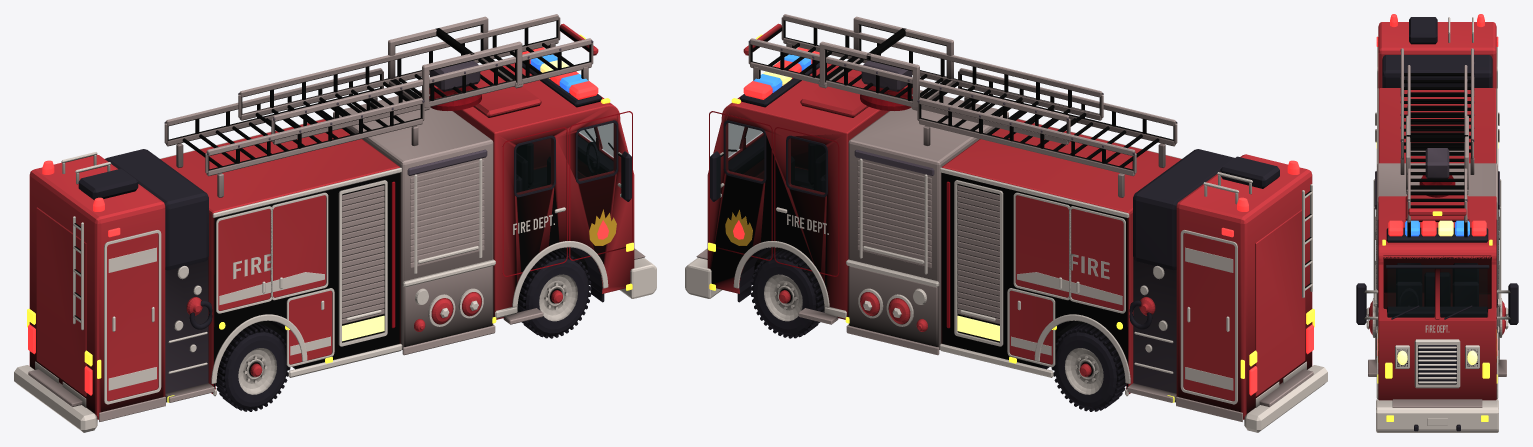
3 views of the same model, side by side, from view 1: azimuth 30°, elevation 25°; view 2: azimuth 150°, elevation 25°; view 3: azimuth 270°, elevation 25° (orthographic). The views are drawn at different scales.
Parts seen in each view (by area): view 1: root_pal_survivorRed, root_pal_sidewalk, ladder_pal_sidewalk, root_pal_picketWhite, root_pal_uiDark, root_pal_asphalt, root_pal_backpackTeal, wheelRL_pal_uiDark, wheelFL_pal_uiDark, ladder_pal_picketWhite, body_pal_picketWhite, root_pal_blood (+6 smaller); view 2: root_pal_survivorRed, root_pal_sidewalk, ladder_pal_sidewalk, root_pal_picketWhite, root_pal_uiDark, root_pal_asphalt, root_pal_backpackTeal, wheelRR_pal_uiDark, wheelFR_pal_uiDark, ladder_pal_picketWhite, body_pal_picketWhite, root_pal_blood (+6 smaller); view 3: root_pal_survivorRed, root_pal_uiDark, root_pal_picketWhite, ladder_pal_picketWhite, root_pal_backpackTeal, root_pal_sidewalk, body_pal_picketWhite, ladder_pal_sidewalk, ladder_pal_asphalt, body_pal_sidewalk, sirenL_emi_sirenRed, ladder_pal_survivorRed (+8 smaller).
Boxes of the visible parts, bbox=[...] form: root_pal_survivorRed: bbox=[29, 63, 634, 419]; root_pal_sidewalk: bbox=[99, 90, 543, 421]; ladder_pal_sidewalk: bbox=[164, 14, 593, 197]; root_pal_picketWhite: bbox=[35, 118, 621, 407]; root_pal_uiDark: bbox=[78, 63, 631, 388]; root_pal_asphalt: bbox=[165, 149, 487, 402]; root_pal_backpackTeal: bbox=[516, 123, 625, 199]; wheelRL_pal_uiDark: bbox=[215, 322, 290, 411]; wheelFL_pal_uiDark: bbox=[517, 249, 591, 338]; ladder_pal_picketWhite: bbox=[182, 43, 573, 167]; body_pal_picketWhite: bbox=[14, 257, 656, 432]; root_pal_blood: bbox=[391, 111, 632, 328]; root_pal_survivorRed: bbox=[707, 63, 1312, 419]; root_pal_sidewalk: bbox=[798, 90, 1242, 421]; ladder_pal_sidewalk: bbox=[748, 14, 1177, 197]; root_pal_picketWhite: bbox=[720, 118, 1312, 407]; root_pal_uiDark: bbox=[710, 63, 1279, 388]; root_pal_asphalt: bbox=[854, 149, 1176, 402]; root_pal_backpackTeal: bbox=[716, 123, 825, 199]; wheelRR_pal_uiDark: bbox=[1051, 322, 1126, 411]; wheelFR_pal_uiDark: bbox=[750, 249, 824, 338]; ladder_pal_picketWhite: bbox=[768, 43, 1159, 167]; body_pal_picketWhite: bbox=[685, 257, 1327, 432]; root_pal_blood: bbox=[709, 111, 950, 328]; root_pal_survivorRed: bbox=[1369, 22, 1505, 400]; root_pal_uiDark: bbox=[1356, 17, 1518, 384]; root_pal_picketWhite: bbox=[1363, 17, 1511, 398]; ladder_pal_picketWhite: bbox=[1404, 73, 1470, 208]; root_pal_backpackTeal: bbox=[1387, 269, 1487, 317]; root_pal_sidewalk: bbox=[1368, 163, 1506, 376]; body_pal_picketWhite: bbox=[1376, 399, 1498, 432]; ladder_pal_sidewalk: bbox=[1400, 48, 1474, 237]; ladder_pal_asphalt: bbox=[1400, 49, 1474, 201]; body_pal_sidewalk: bbox=[1392, 399, 1482, 407]; sirenL_emi_sirenRed: bbox=[1388, 220, 1436, 236]; ladder_pal_survivorRed: bbox=[1408, 208, 1466, 215].
Bounding box in the file's own units: 7.4 × 3.55 × 2.1.
